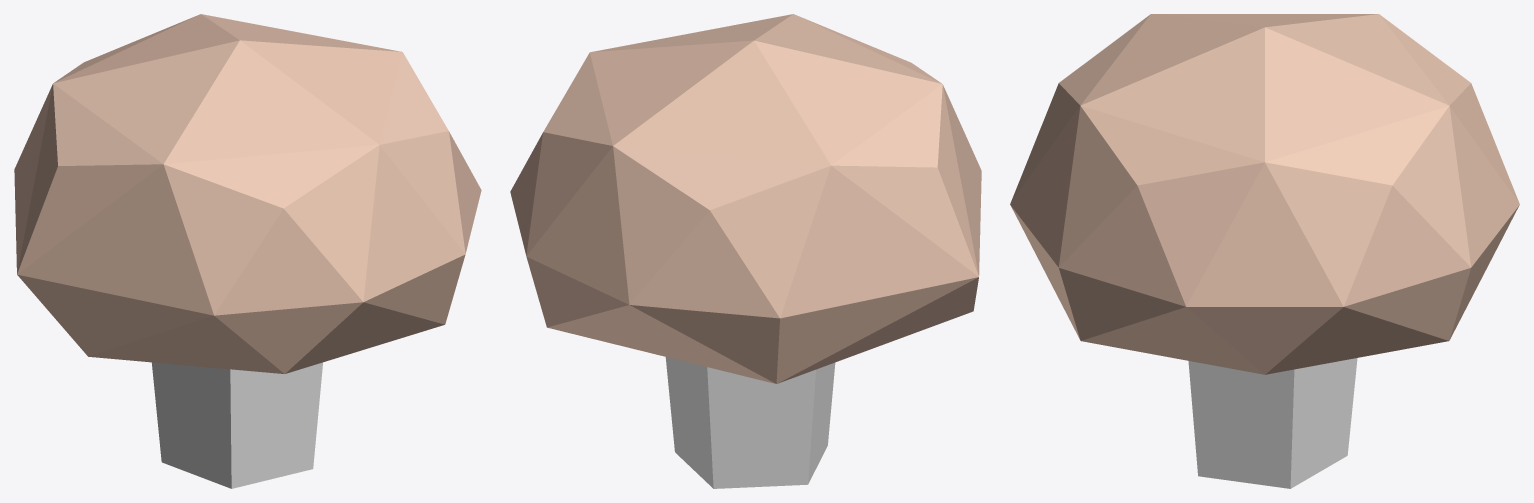
The model's file is Mushroom_g_01.fbx.
3 renders of one model, left to right at view 1: azimuth 30°, elevation 25°; view 2: azimuth 150°, elevation 25°; view 3: azimuth 270°, elevation 25°, orthographic. The views are drawn at different scales.
Parts seen in each view (by area): view 1: Mushroom_g_01; view 2: Mushroom_g_01; view 3: Mushroom_g_01.
Part boxes in pixels (left/top/right/bottom): Mushroom_g_01: left=14, top=14, right=481, bottom=488; Mushroom_g_01: left=510, top=14, right=981, bottom=488; Mushroom_g_01: left=1010, top=14, right=1519, bottom=488.
Size of the model in its own units: 0.2164 by 0.2013 by 0.2171.
